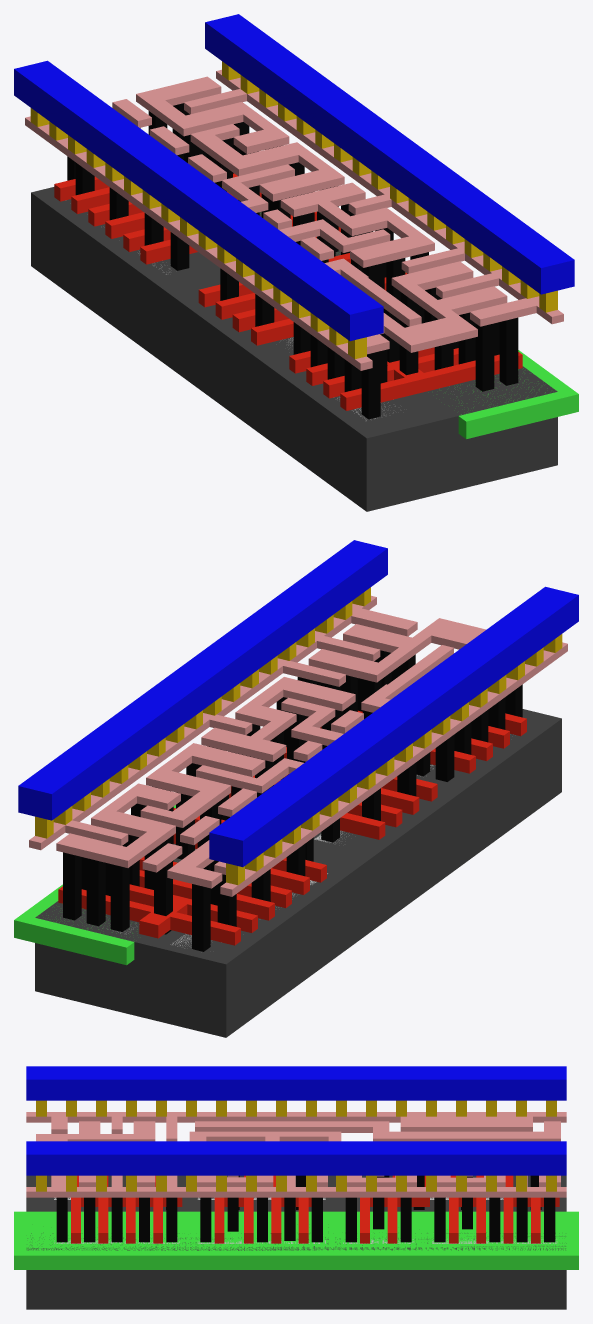
Rendered from sky130_fd_sc_hd__o32a_4.obj.
3 renders of one model, top to bottom at view 1: azimuth 30°, elevation 25°; view 2: azimuth 150°, elevation 25°; view 3: azimuth 270°, elevation 25°, orthographic. The views are drawn at different scales.
Parts seen in each view (by area): view 1: subs, metal1, li, licon, poly, mcon, nwell; view 2: subs, metal1, li, licon, poly, mcon, nwell; view 3: metal1, subs, nwell, li, licon, poly, mcon, tap.
Boxes of the visible parts, x1,y1,x2,y2 form: subs: (31, 187, 557, 511); metal1: (14, 14, 574, 341); li: (25, 69, 563, 370); licon: (67, 103, 518, 419); poly: (54, 173, 522, 410); mcon: (30, 61, 557, 359); nwell: (260, 213, 578, 439); subs: (35, 709, 561, 1037); metal1: (18, 540, 578, 867); li: (29, 595, 567, 896); licon: (63, 650, 522, 951); poly: (58, 710, 526, 945); mcon: (35, 587, 562, 885); nwell: (14, 805, 175, 965); metal1: (26, 1066, 566, 1175); subs: (26, 1175, 566, 1309); nwell: (14, 1211, 578, 1269); li: (26, 1112, 566, 1197); licon: (56, 1175, 555, 1242); poly: (71, 1175, 559, 1243); mcon: (36, 1100, 556, 1191); tap: (54, 1237, 557, 1243).
Bounding box in the file's own units: 3.2 × 2.74 × 8.66.
